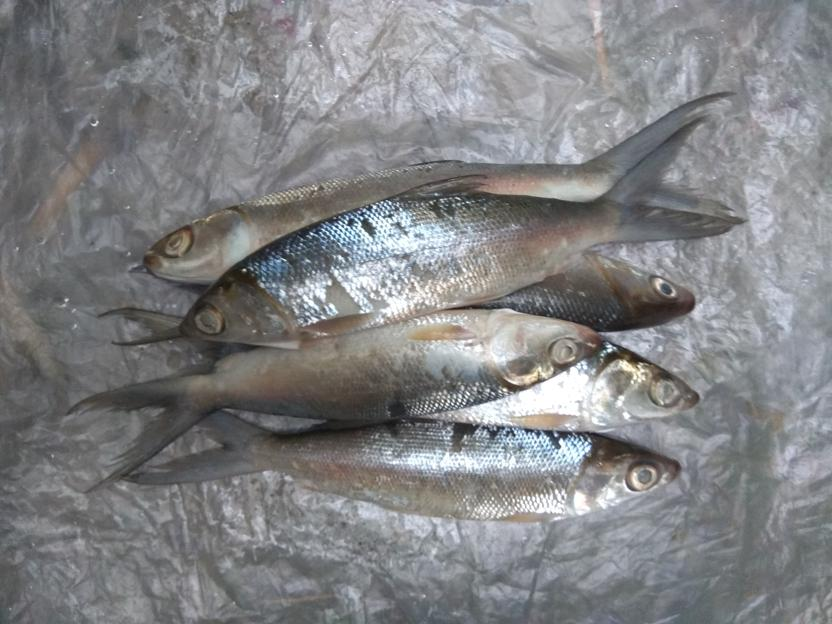Fish head: (582, 346, 701, 434), (491, 307, 601, 401), (181, 267, 305, 349), (570, 438, 683, 519), (145, 208, 253, 285), (595, 252, 696, 333)
Fish tail: (601, 113, 751, 246), (594, 90, 740, 224), (63, 371, 205, 497), (121, 411, 273, 488)
